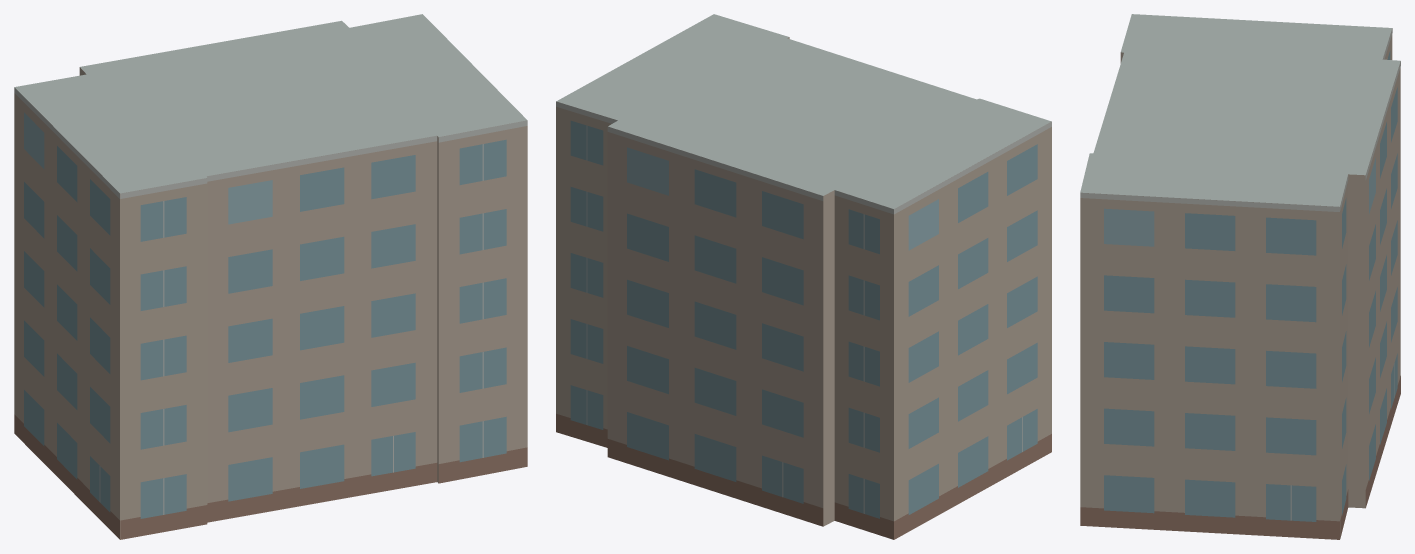
The model's file is survey-upis-32658977.glb.
3 views of the same model, side by side, from view 1: azimuth 30°, elevation 25°; view 2: azimuth 150°, elevation 25°; view 3: azimuth 270°, elevation 25° (orthographic). The views are drawn at different scales.
Visible parts, largest first — view 1: survey-upis-32658977.tmp; view 2: survey-upis-32658977.tmp; view 3: survey-upis-32658977.tmp.
Boxes of the visible parts, x1=… form: survey-upis-32658977.tmp: x1=14, y1=14, x2=527, y2=539; survey-upis-32658977.tmp: x1=556, y1=14, x2=1051, y2=539; survey-upis-32658977.tmp: x1=1080, y1=14, x2=1400, y2=539.
Bounding box in the file's own units: 18.94 × 15.25 × 13.32.
